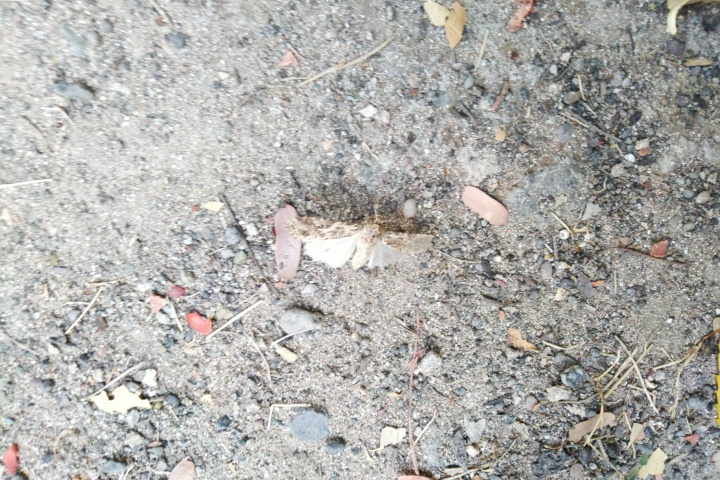INS-B: (280, 205, 439, 274)
